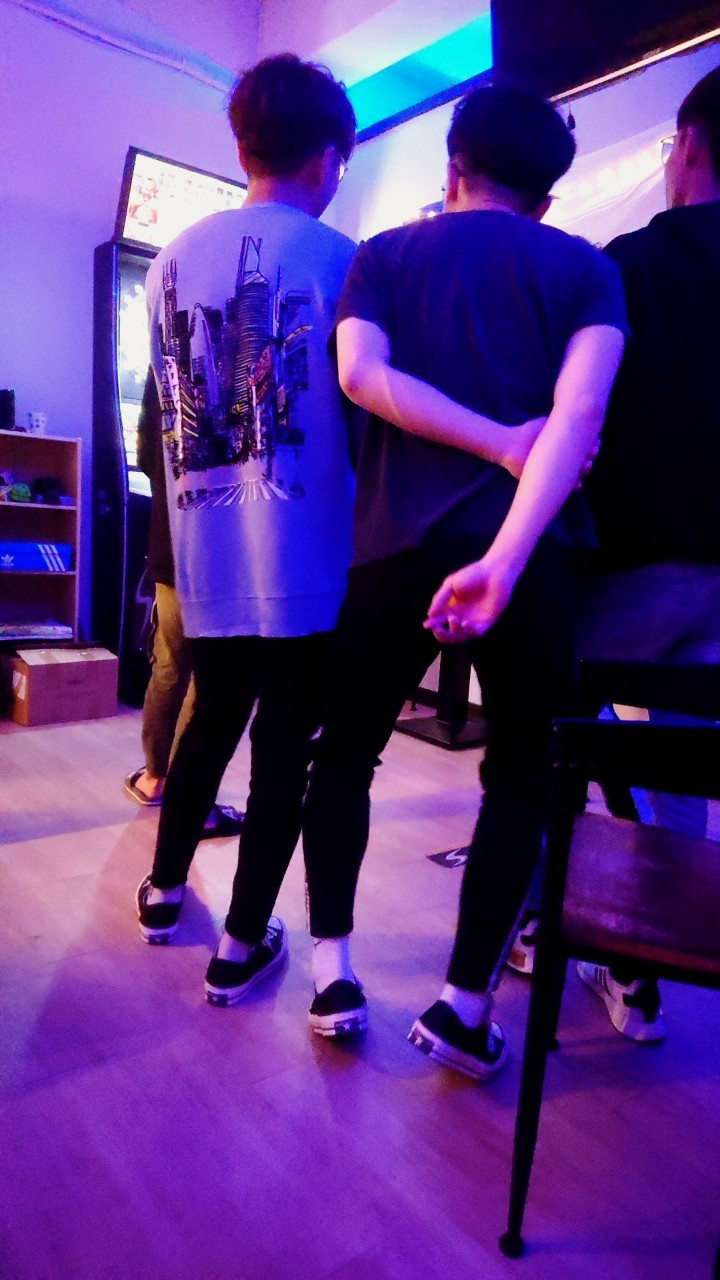people: (316, 86, 612, 1053), (132, 59, 307, 1004), (589, 68, 720, 1051)
